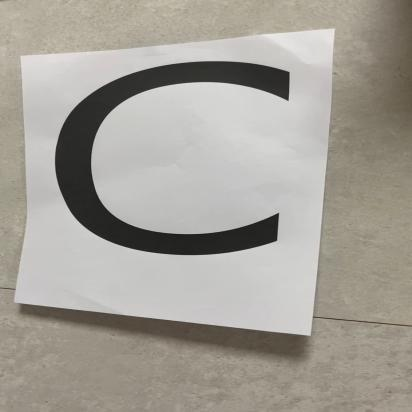seat: (30, 35, 331, 331)
